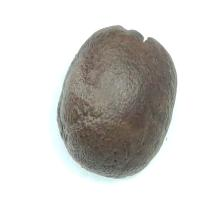NG: (112, 24, 155, 47)
